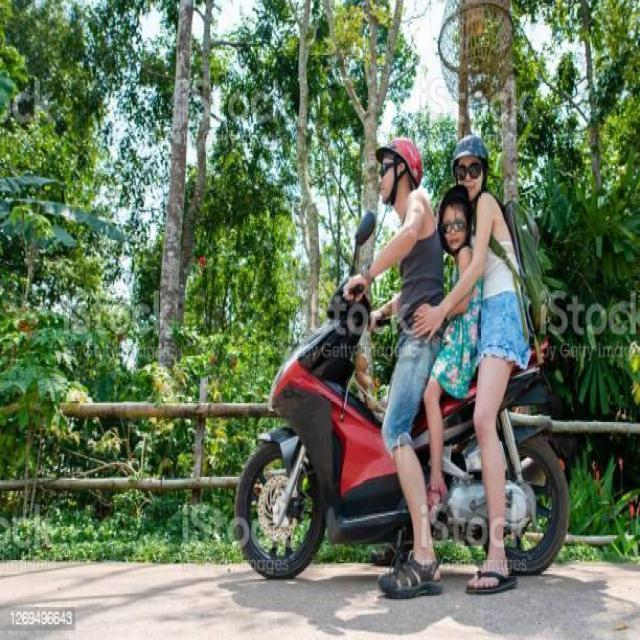motorcycle: (233, 250, 577, 596)
person: (358, 138, 448, 535), (446, 130, 530, 550), (418, 184, 488, 506)
rider_region: (230, 134, 575, 594)
